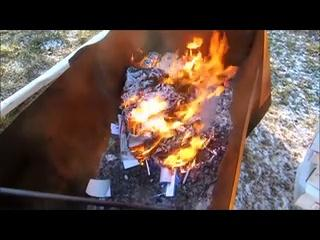Fire: (125, 37, 232, 163)
